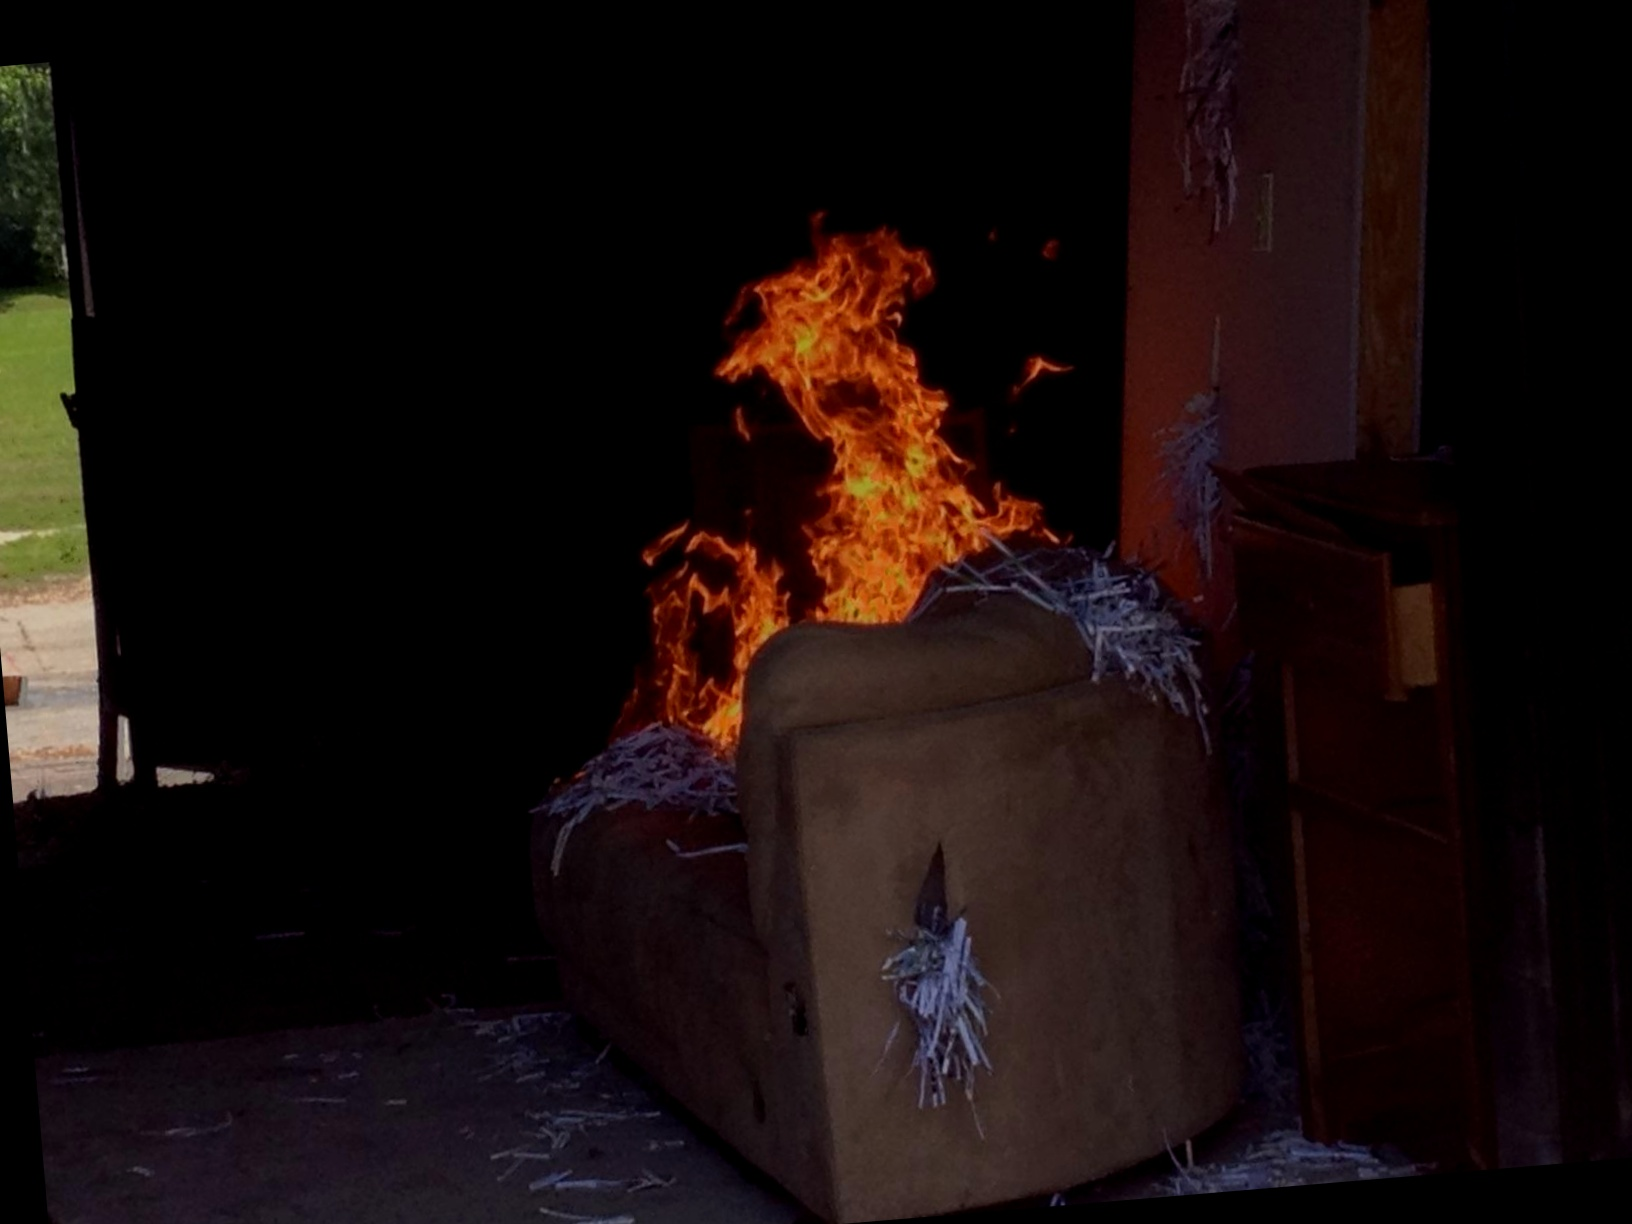fire: (616, 189, 1055, 665)
